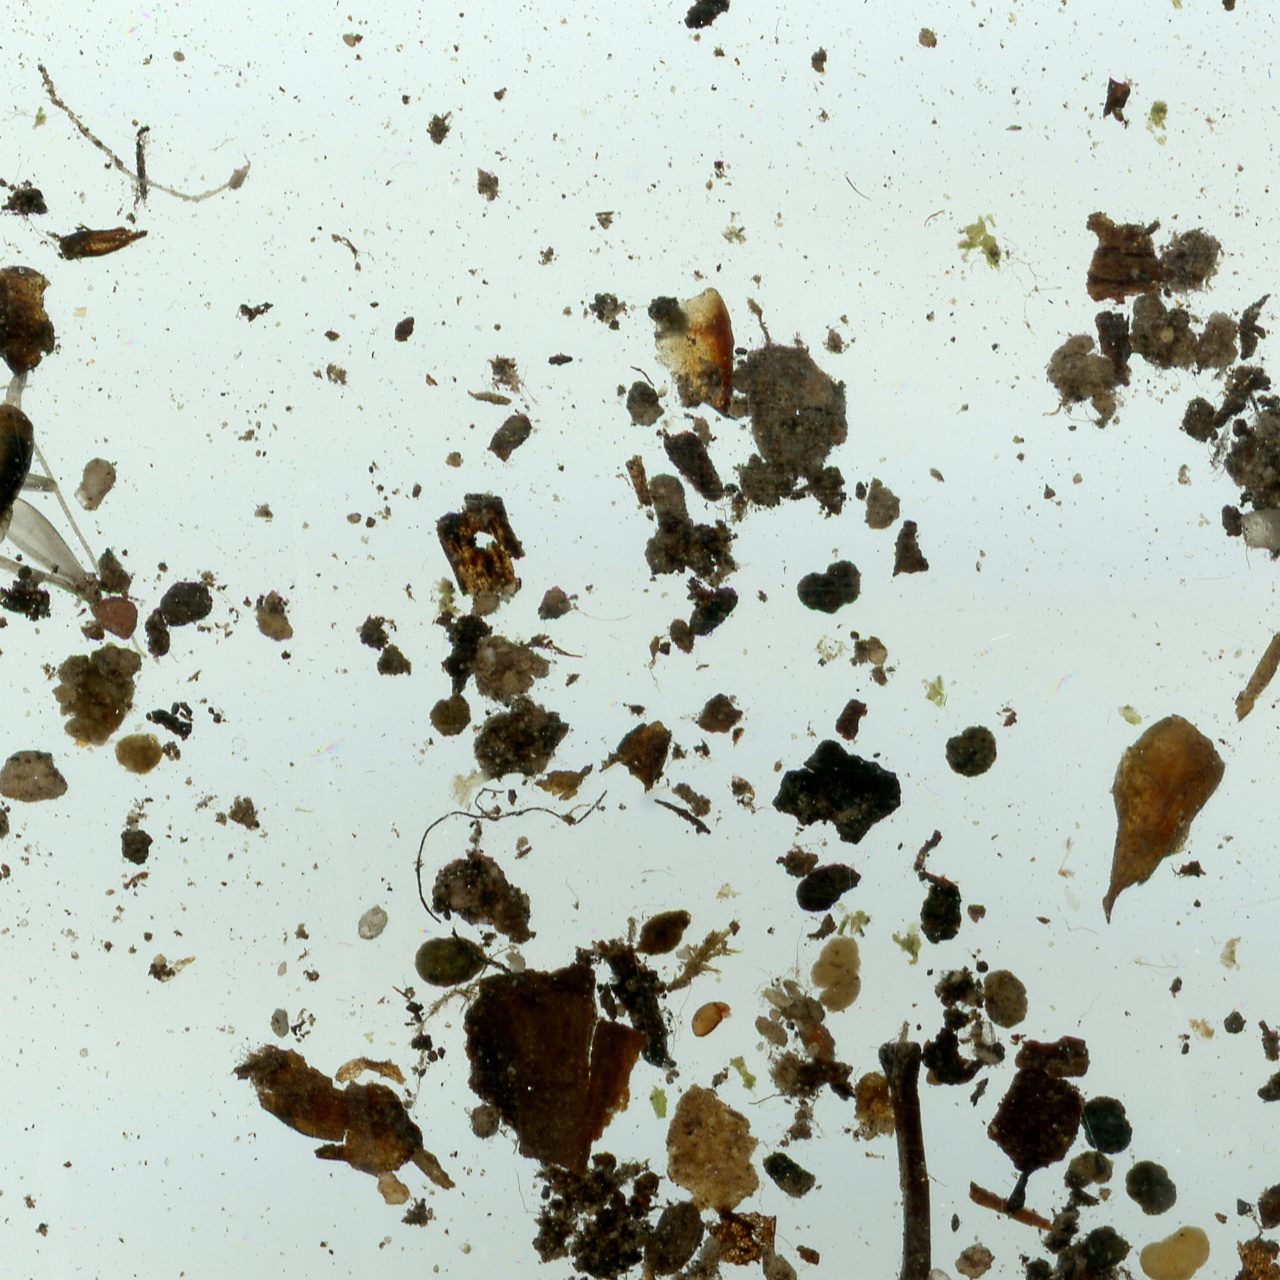arthropod: (0, 340, 117, 614), (0, 375, 101, 617), (1036, 1232, 1170, 1280), (626, 1159, 670, 1220), (688, 1000, 735, 1040), (692, 998, 731, 1042), (629, 1165, 659, 1220)
